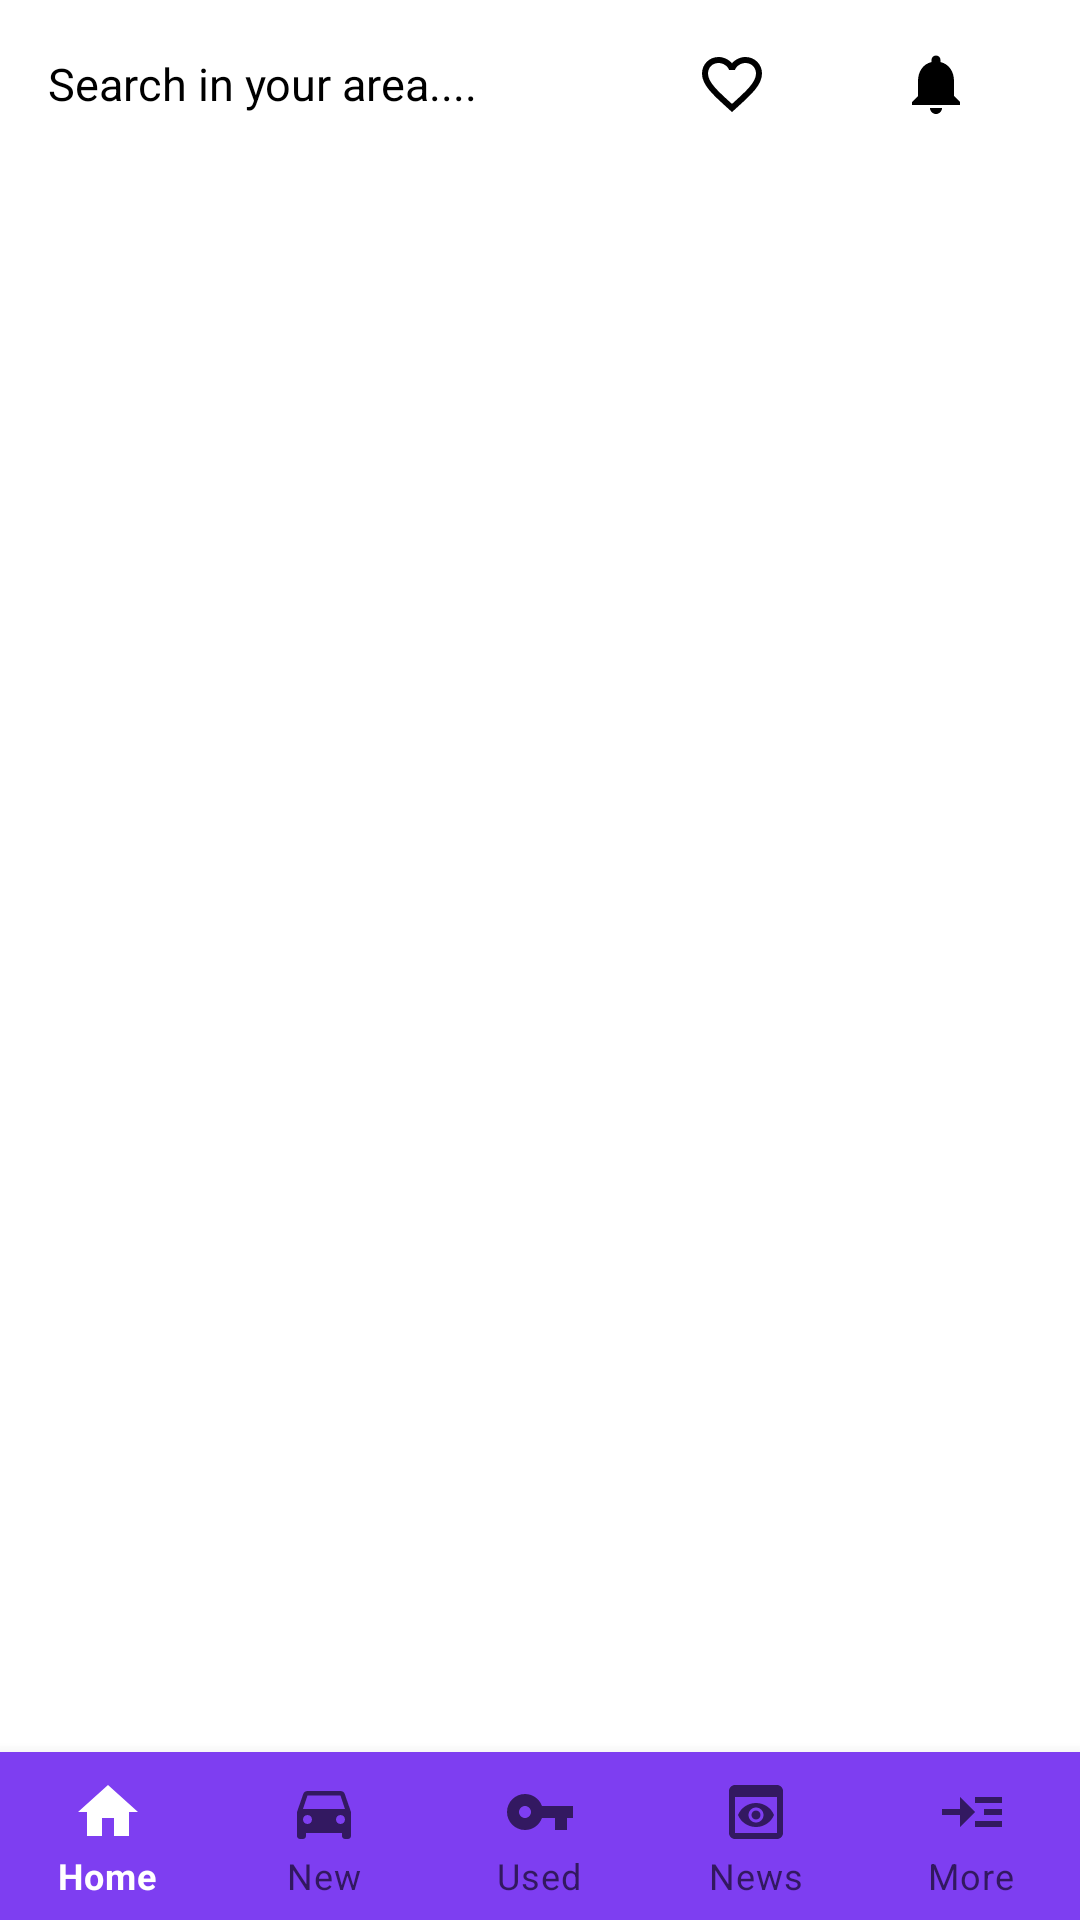

Screen size 1080 × 1920. Icon name, then its box in pixels as (x1, y1, x2, y2):
favorite: (702, 57, 762, 112)
notification: (912, 55, 960, 114)
